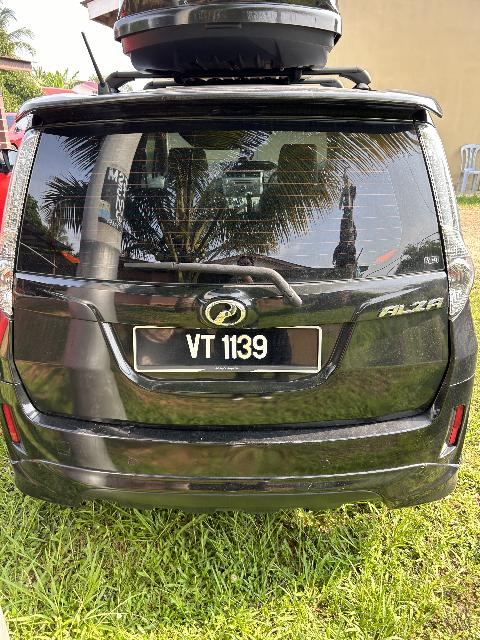License_Plate: (131, 325, 326, 379)
car: (2, 85, 480, 515)
